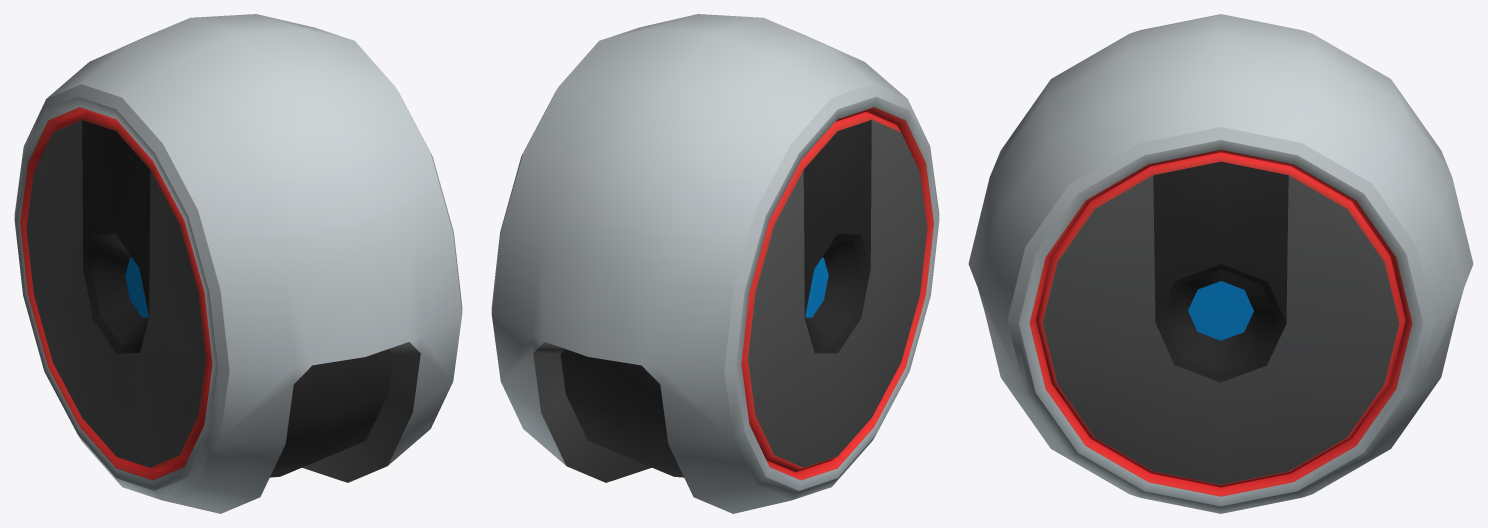
File: Drone_015.fbx
3 renders of one model, left to right at view 1: azimuth 30°, elevation 25°; view 2: azimuth 150°, elevation 25°; view 3: azimuth 270°, elevation 25°, orthographic.
Parts seen in each view (by area): view 1: Drone_015; view 2: Drone_015; view 3: Drone_015.
Boxes of the visible parts, box(x1,y1,x2,y2) form: Drone_015: box(14, 14, 462, 513); Drone_015: box(491, 14, 939, 513); Drone_015: box(968, 14, 1473, 513).
Size of the model in its own units: 33.36 by 60.05 by 58.61.
